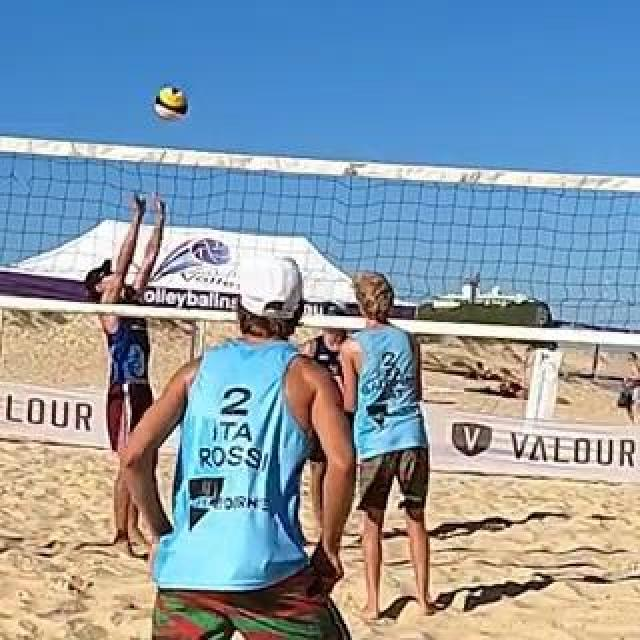volleyball: (156, 87, 188, 121)
